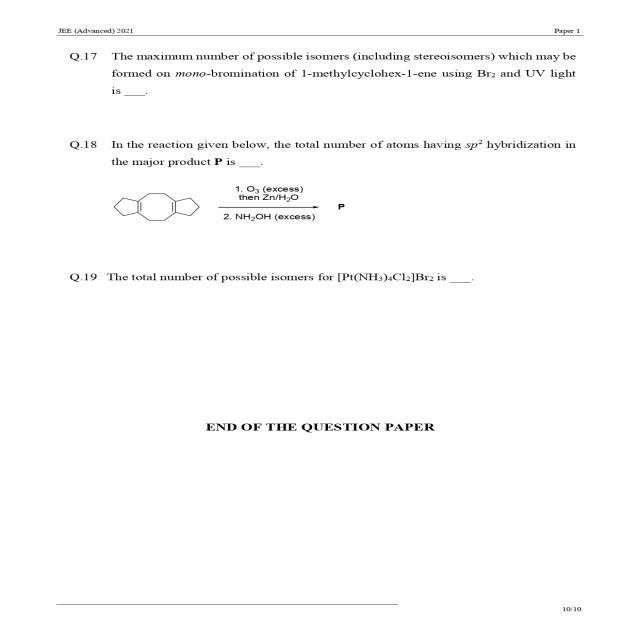Question_Answer_Block: (35, 128, 595, 244), (35, 37, 595, 110), (35, 263, 595, 299)
Question_Block: (35, 128, 595, 244), (35, 37, 595, 110), (35, 263, 595, 299)
Question_Paper_Area: (35, 37, 595, 531)
